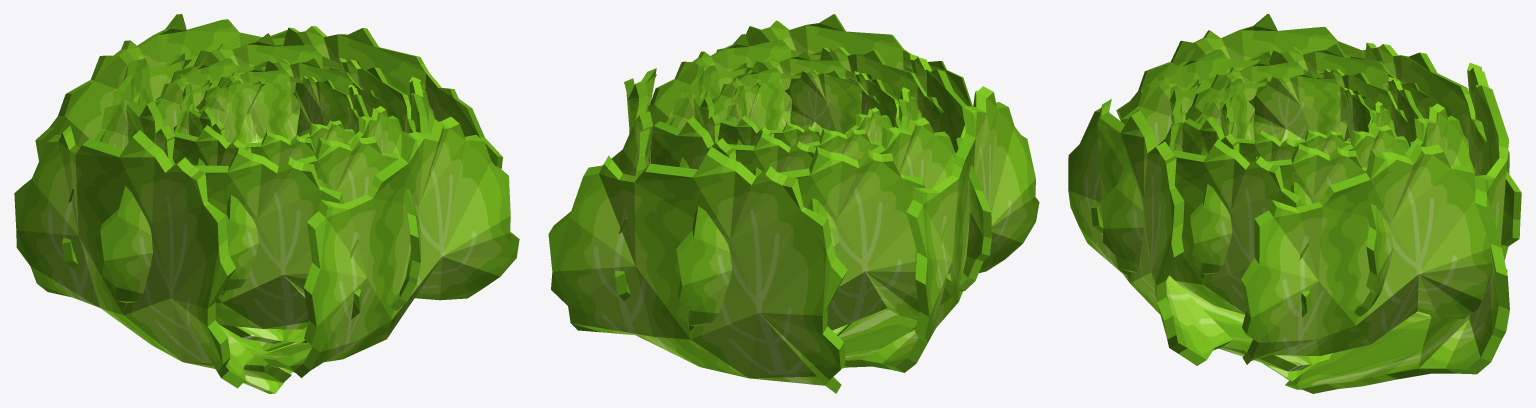
Rendered from Lechuga.fbx.
The picture shows the model from 3 angles, left to right: view 1: azimuth 30°, elevation 25°; view 2: azimuth 150°, elevation 25°; view 3: azimuth 270°, elevation 25°; orthographic projection. The views are drawn at different scales.
Visible parts, largest first — view 1: Lechuga1, Lechuga2, Lechuga5, Lechuga0, Lechuga3, Lechuga9, Lechuga4, Lechuga18, Lechuga7, Lechuga21, Lechuga6, Lechuga22 (+10 smaller); view 2: Lechuga0, Lechuga1, Lechuga4, Lechuga2, Lechuga5, Lechuga20, Lechuga8, Lechuga6, Lechuga7, Lechuga17, Lechuga9, Lechuga3 (+11 smaller); view 3: Lechuga3, Lechuga2, Lechuga0, Lechuga6, Lechuga10, Lechuga4, Lechuga1, Lechuga19, Lechuga7, Lechuga5, Lechuga8, Lechuga16 (+11 smaller).
Boxes of the visible parts, box(x1,y1,x2,y2) form: Lechuga1: box(14, 125, 291, 388); Lechuga2: box(263, 116, 519, 377); Lechuga5: box(100, 146, 361, 329); Lechuga0: box(35, 14, 296, 393); Lechuga3: box(260, 26, 502, 351); Lechuga9: box(221, 135, 398, 295); Lechuga4: box(62, 53, 283, 343); Lechuga18: box(196, 64, 308, 140); Lechuga7: box(156, 33, 362, 99); Lechuga21: box(293, 76, 358, 136); Lechuga6: box(391, 76, 434, 310); Lechuga22: box(198, 80, 265, 144); Lechuga0: box(548, 146, 847, 393); Lechuga1: box(838, 86, 1039, 372); Lechuga4: box(676, 146, 951, 330); Lechuga2: box(716, 14, 972, 335); Lechuga5: box(905, 54, 991, 291); Lechuga20: box(785, 70, 880, 134); Lechuga8: box(808, 117, 956, 254); Lechuga6: box(648, 34, 831, 126); Lechuga7: box(611, 111, 735, 176); Lechuga17: box(711, 66, 802, 129); Lechuga9: box(811, 47, 943, 126); Lechuga3: box(615, 68, 656, 300); Lechuga3: box(1240, 144, 1507, 364); Lechuga2: box(1068, 99, 1311, 371); Lechuga0: box(1285, 62, 1509, 393); Lechuga6: box(1101, 139, 1311, 317); Lechuga10: box(1190, 143, 1366, 277); Lechuga4: box(1350, 42, 1521, 260); Lechuga1: box(1116, 14, 1378, 381); Lechuga19: box(1248, 71, 1366, 142); Lechuga7: box(1354, 103, 1474, 316); Lechuga5: box(1090, 48, 1270, 233); Lechuga8: box(1269, 44, 1429, 106); Lechuga16: box(1182, 77, 1269, 148).
Size of the model in its own units: 142 by 107 by 142.
